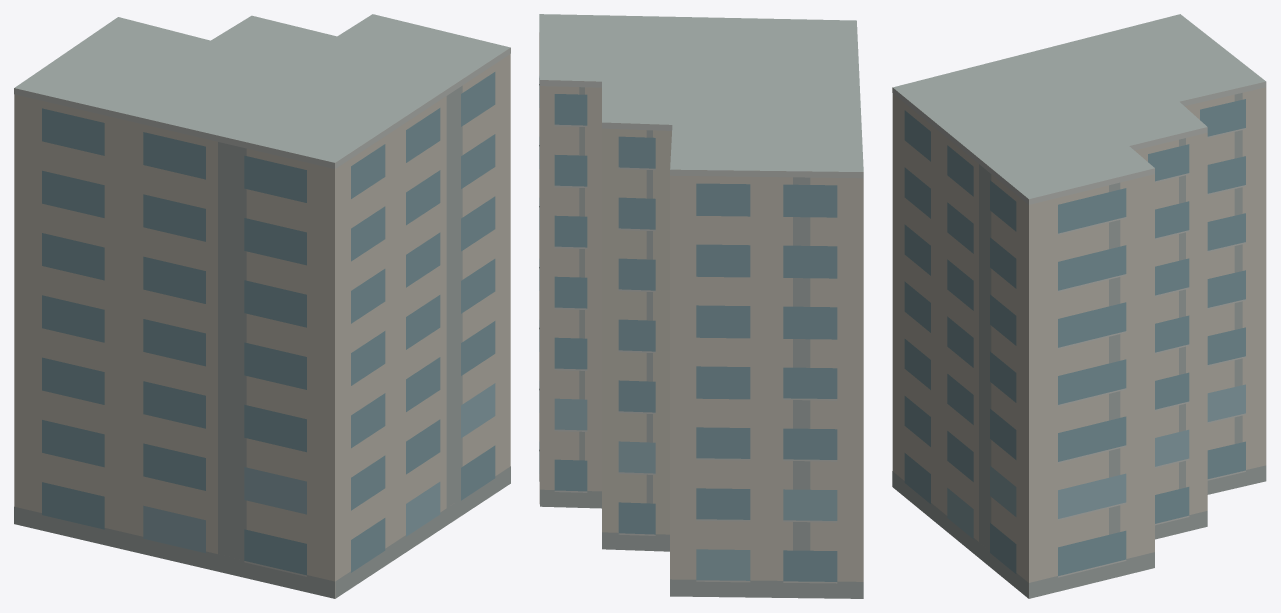
Rendered from survey-upis-32785662.glb.
3 views of the same model, side by side, from view 1: azimuth 30°, elevation 25°; view 2: azimuth 150°, elevation 25°; view 3: azimuth 270°, elevation 25° (orthographic). The views are drawn at different scales.
Visible parts, largest first — view 1: survey-upis-32785662.tmp; view 2: survey-upis-32785662.tmp; view 3: survey-upis-32785662.tmp.
Boxes of the visible parts, <box> form: survey-upis-32785662.tmp: <box>14,14,510,598</box>; survey-upis-32785662.tmp: <box>539,14,863,598</box>; survey-upis-32785662.tmp: <box>892,14,1266,598</box>.
Size of the model in its own units: 16.9 by 17 by 14.42.
